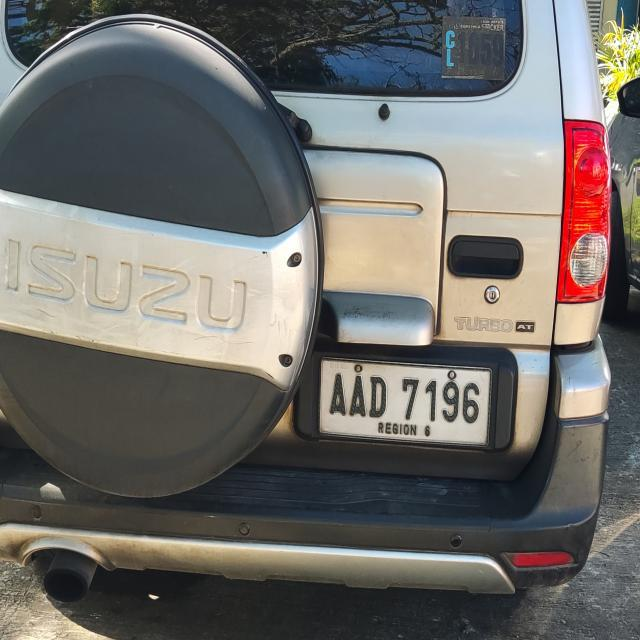LicensePlate: (316, 349, 499, 457)
